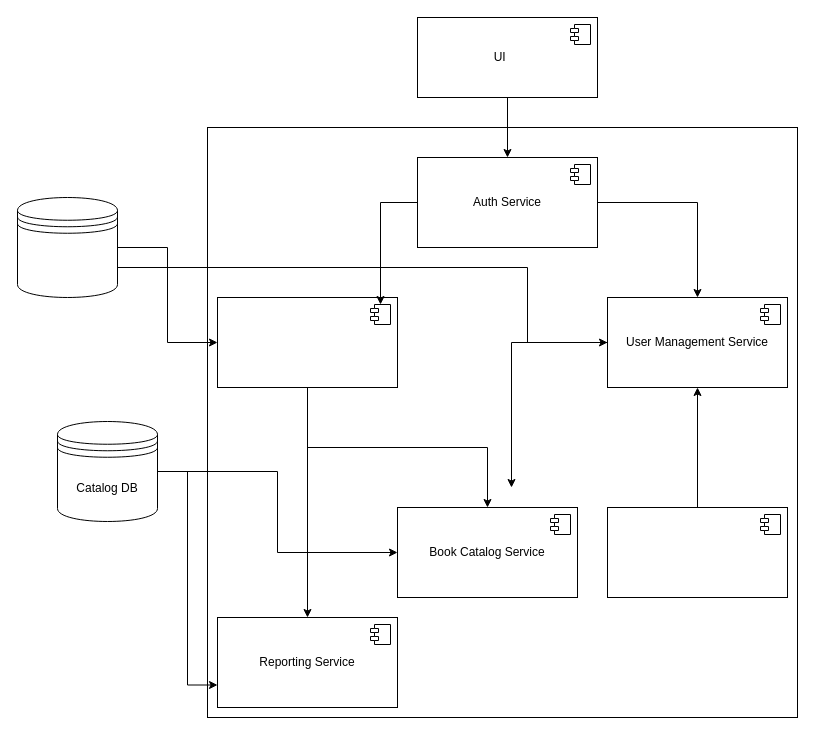
The diagram is 815 pixels wide and 735 high, and some of its shapes have lost their labels. Here are the shapes that lost their labels. From the top down, the box of each, then its label:
(16, 196, 118, 298): Users BD
(216, 296, 398, 388): Librarian Management Service
(606, 506, 788, 598): Notification Service
